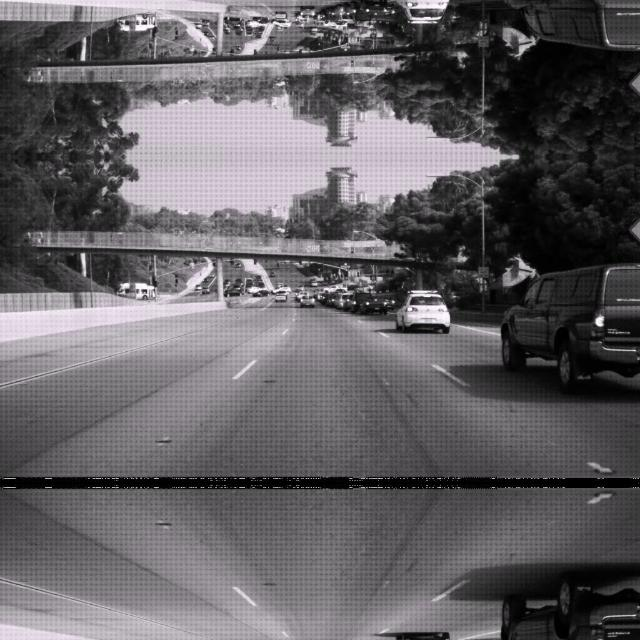signalAhead: (346, 244, 356, 254), (346, 58, 356, 68)
